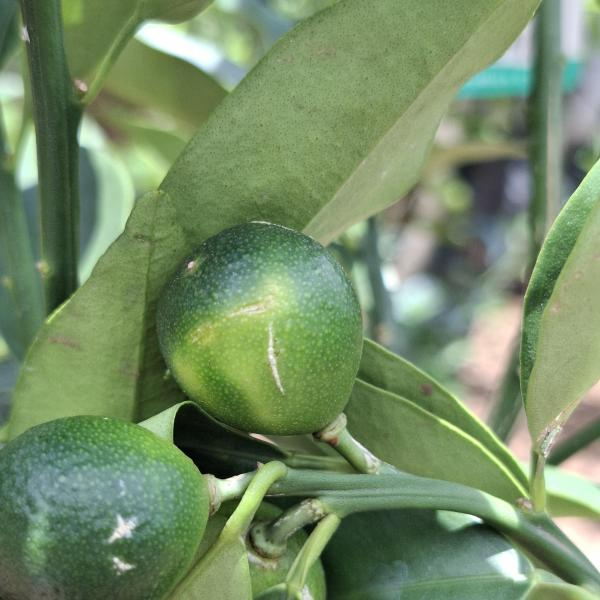Scab: (149, 208, 373, 450), (3, 405, 217, 595)
